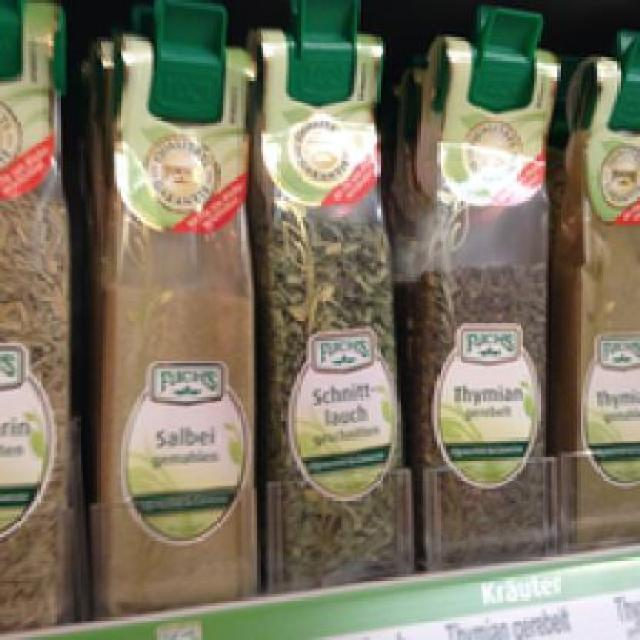Spices: (89, 22, 258, 618), (252, 23, 412, 586), (412, 32, 554, 554)
